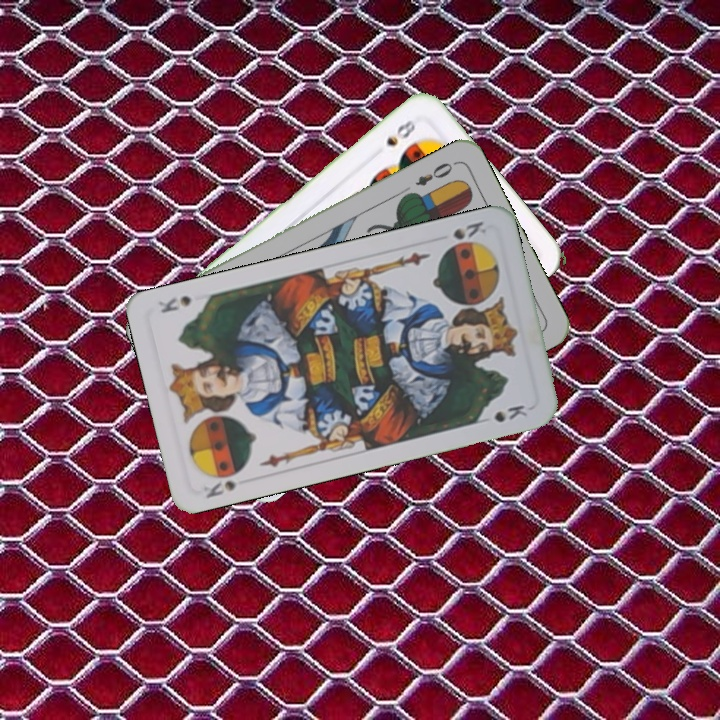EO: (411, 157, 459, 189)
S8: (382, 115, 418, 149)
SK: (199, 476, 241, 501), (449, 217, 489, 242)
